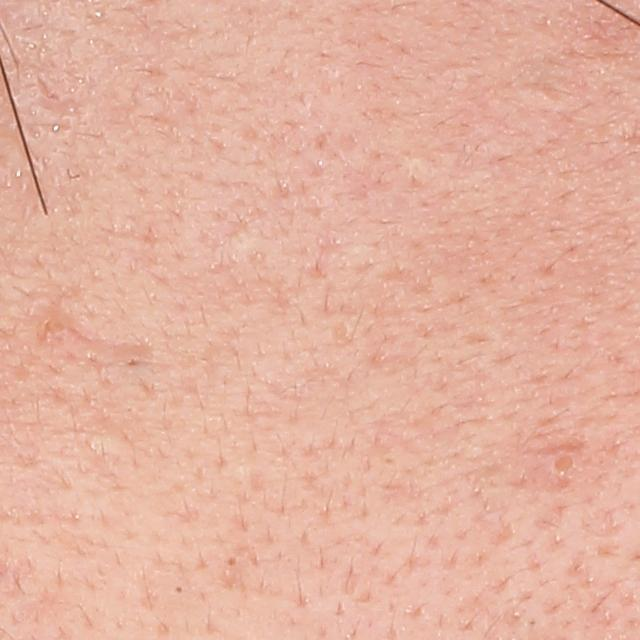comedo: (540, 445, 587, 489), (217, 551, 243, 576)
